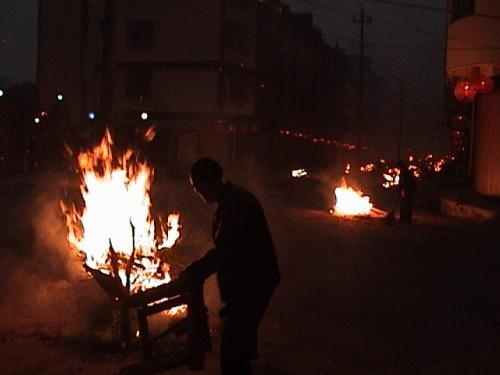fire: (60, 134, 184, 294), (330, 182, 373, 216)
